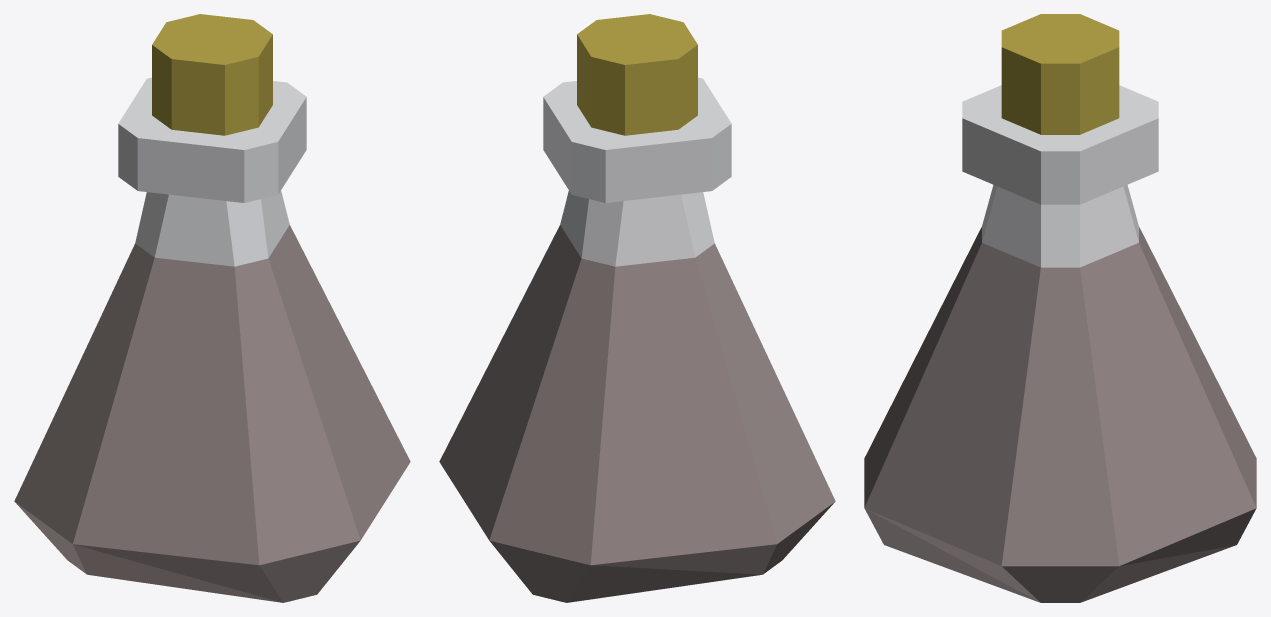
The model's file is inv_zamorak_potion_4.obj.
3 views of the same model, side by side, from view 1: azimuth 30°, elevation 25°; view 2: azimuth 150°, elevation 25°; view 3: azimuth 270°, elevation 25° (orthographic).
Bounding box in the file's own units: 0.1562 × 0.2188 × 0.1562.
